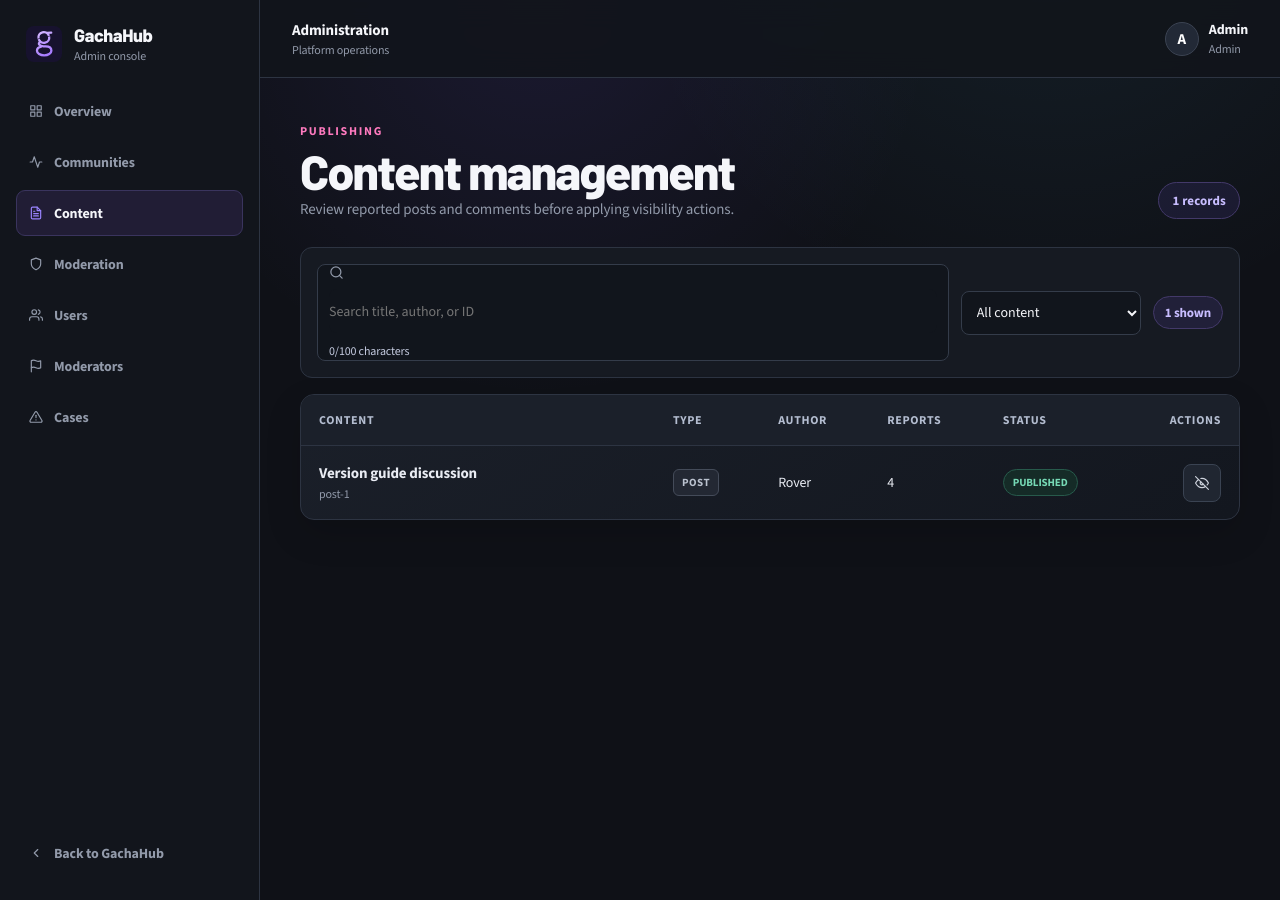
Scenario: AdminContentPage status-based actions › sends the content type filter to the server instead of filtering client-side
Expected: the text "Version guide discussion" is shown, top-left (319, 463), bottom-right (477, 483)
Select "Comments" in the dropdown named "filter content type". click: (1051, 312)
box: top-left (961, 290), bottom-right (1141, 334)
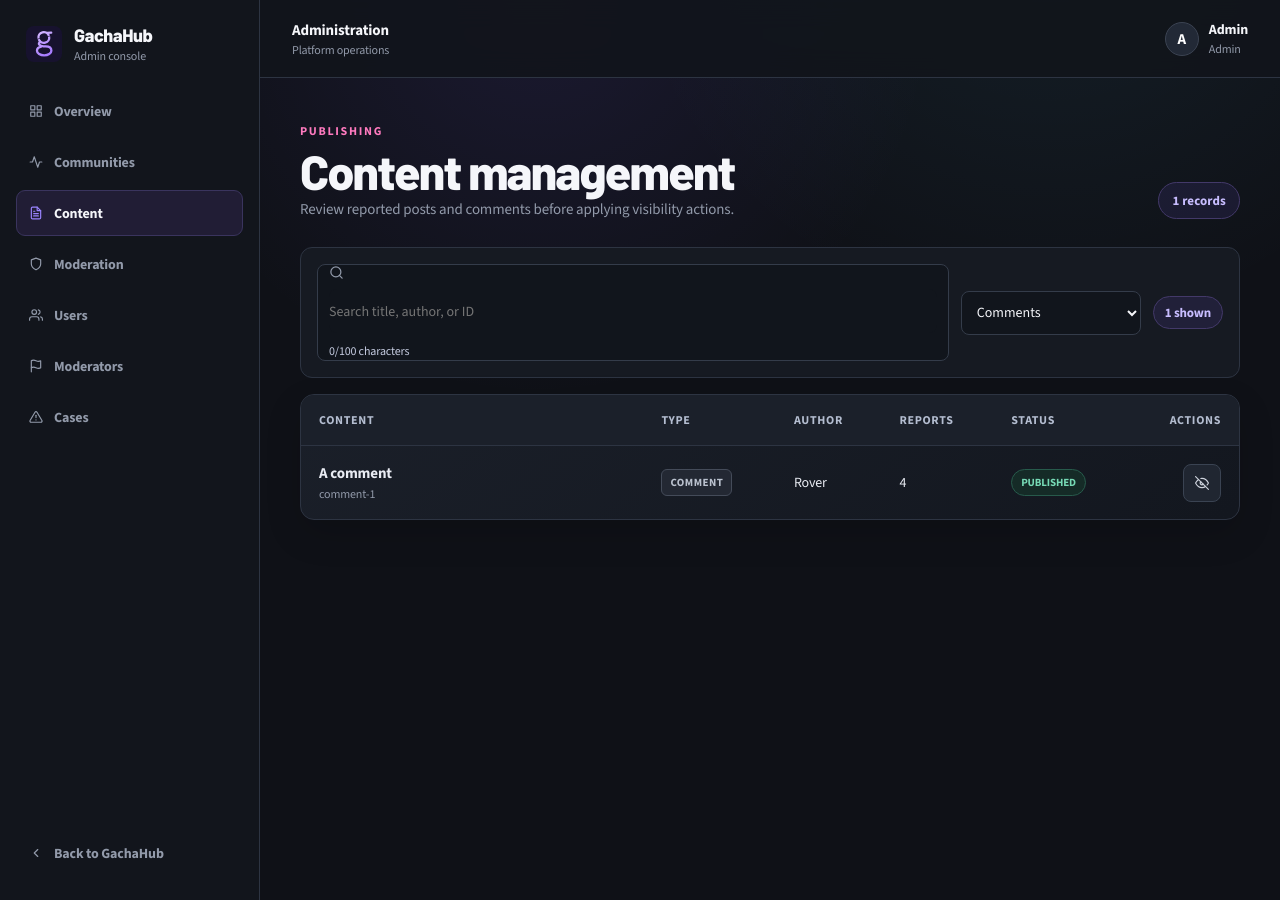
Expected: the text "A comment" is shown, top-left (319, 463), bottom-right (392, 483)
Expected: the text "Version guide discussion" is gone
